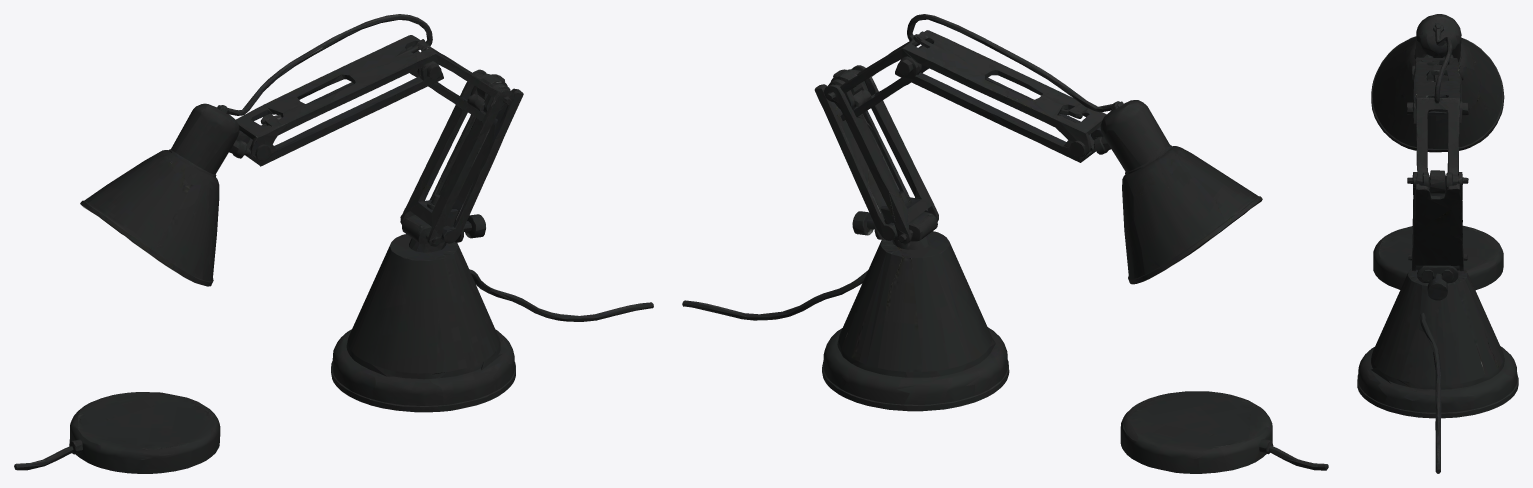
The model's file is desk-lamp.glb.
3 renders of one model, left to right at view 1: azimuth 30°, elevation 25°; view 2: azimuth 150°, elevation 25°; view 3: azimuth 270°, elevation 25°, orthographic. The views are drawn at different scales.
Bounding box in the file's own units: 1.9 × 1.04 × 0.4795.
1 material, 1 textured.
